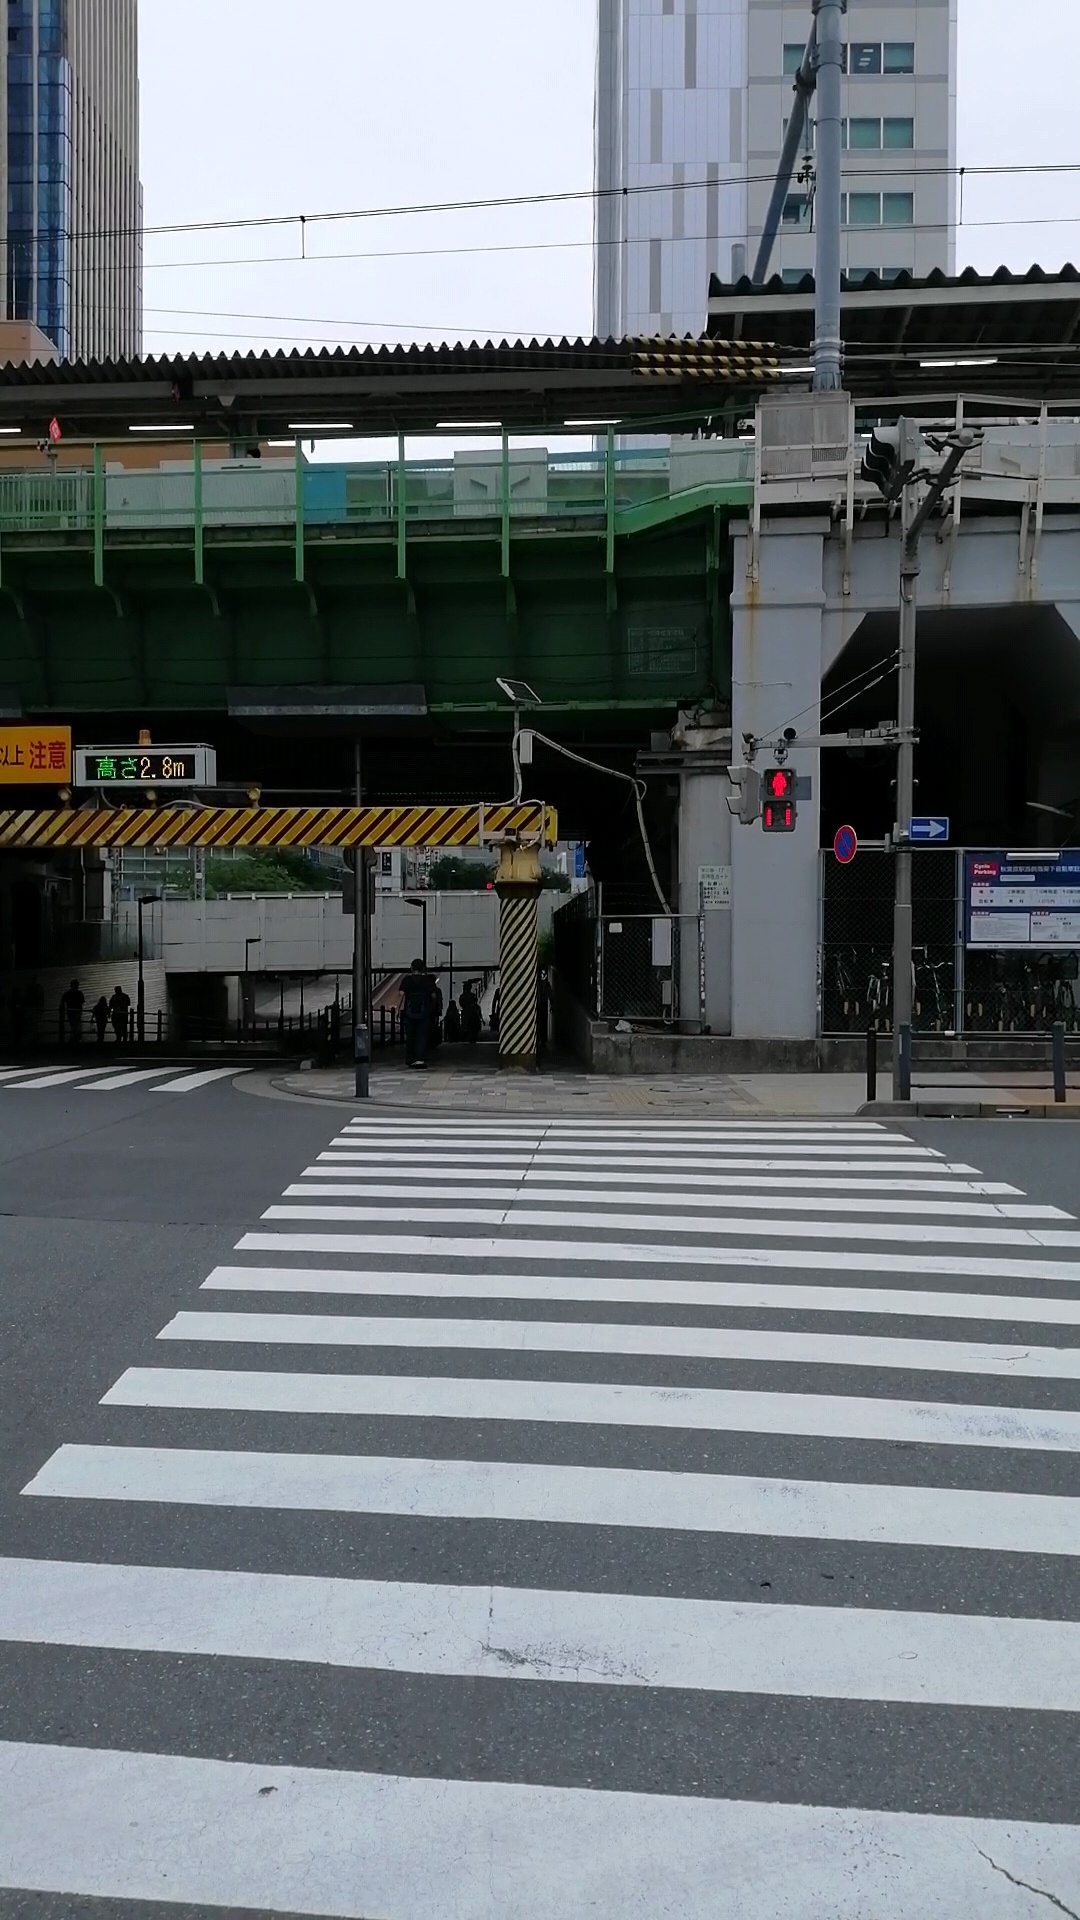red: (760, 765, 796, 832)
